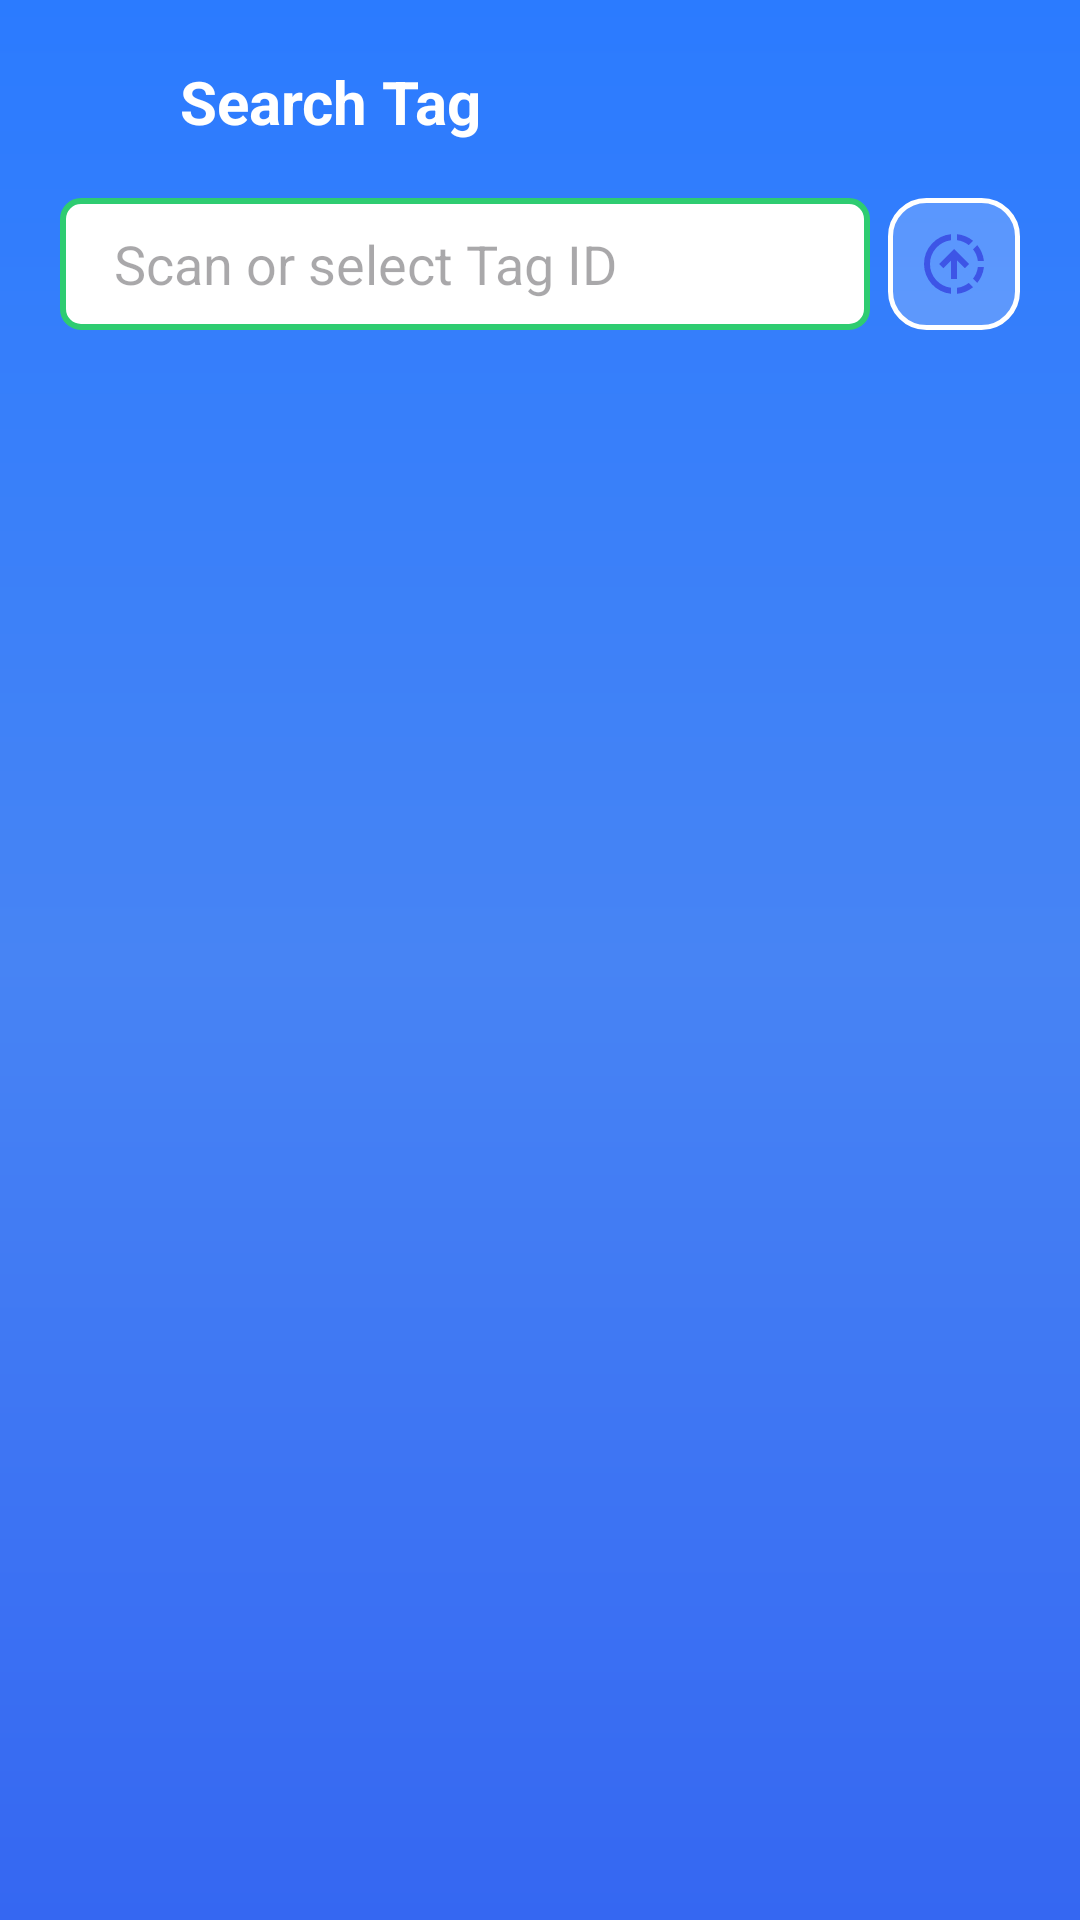

Icons on this 1080x1920 Android screen, each with its box as {"x1": x1, "y1": y1, "x2": x2, "y2": y2}:
Upload Tag: {"x1": 888, "y1": 198, "x2": 1020, "y2": 330}
